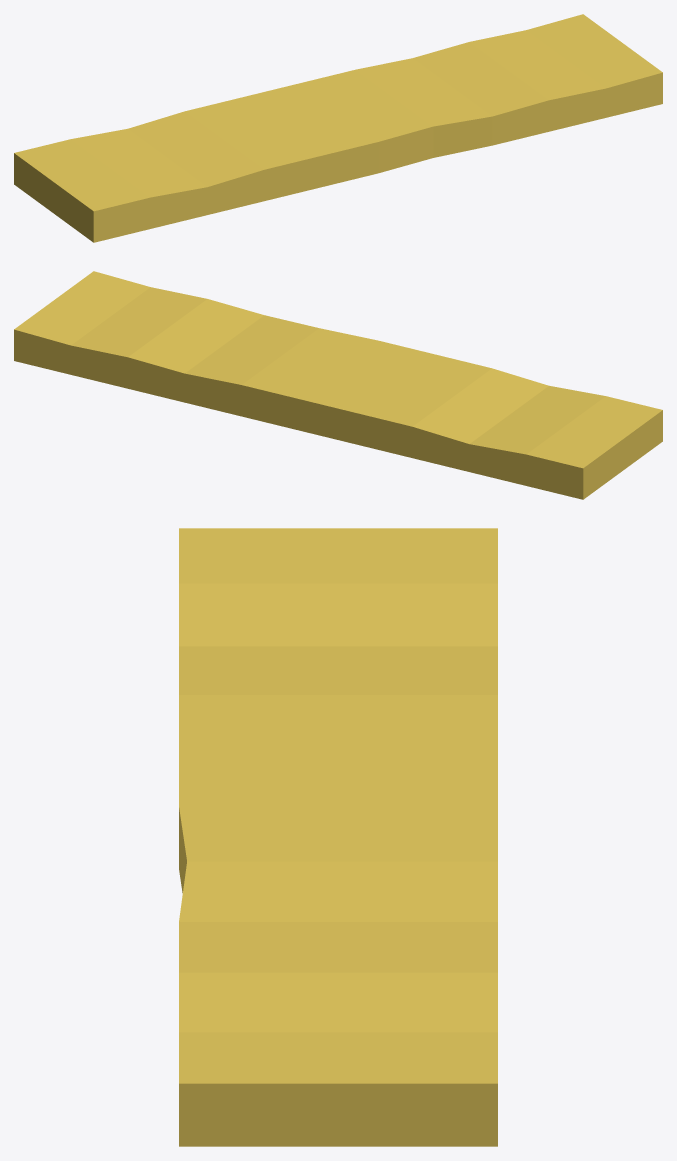
File: 横木板.fbx
3 renders of one model, top to bottom at view 1: azimuth 30°, elevation 25°; view 2: azimuth 150°, elevation 25°; view 3: azimuth 270°, elevation 25°, orthographic. The views are drawn at different scales.
Visible parts, largest first — view 1: M.wood.2; view 2: M.wood.2; view 3: M.wood.2.
Boxes of the visible parts, x1,y1,x2,y2 form: M.wood.2: (14,14,662,242); M.wood.2: (14,271,662,499); M.wood.2: (179,528,497,1146).
Size of the model in its own units: 706 by 37.33 by 171.
